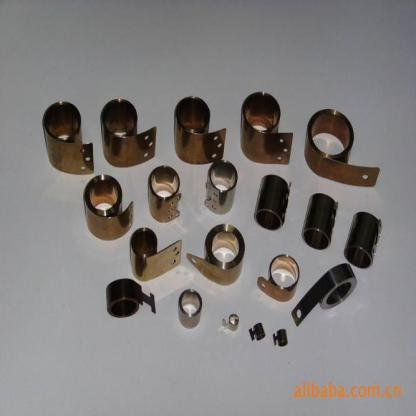FOD: (82, 172, 135, 244)
